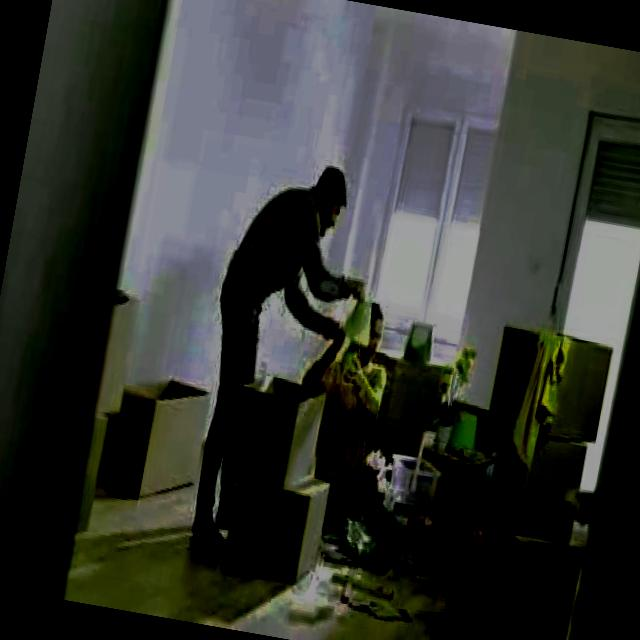Box: (440, 497, 582, 640), (475, 314, 616, 448), (224, 354, 336, 500), (106, 351, 212, 492), (482, 422, 589, 550), (220, 472, 332, 580)
